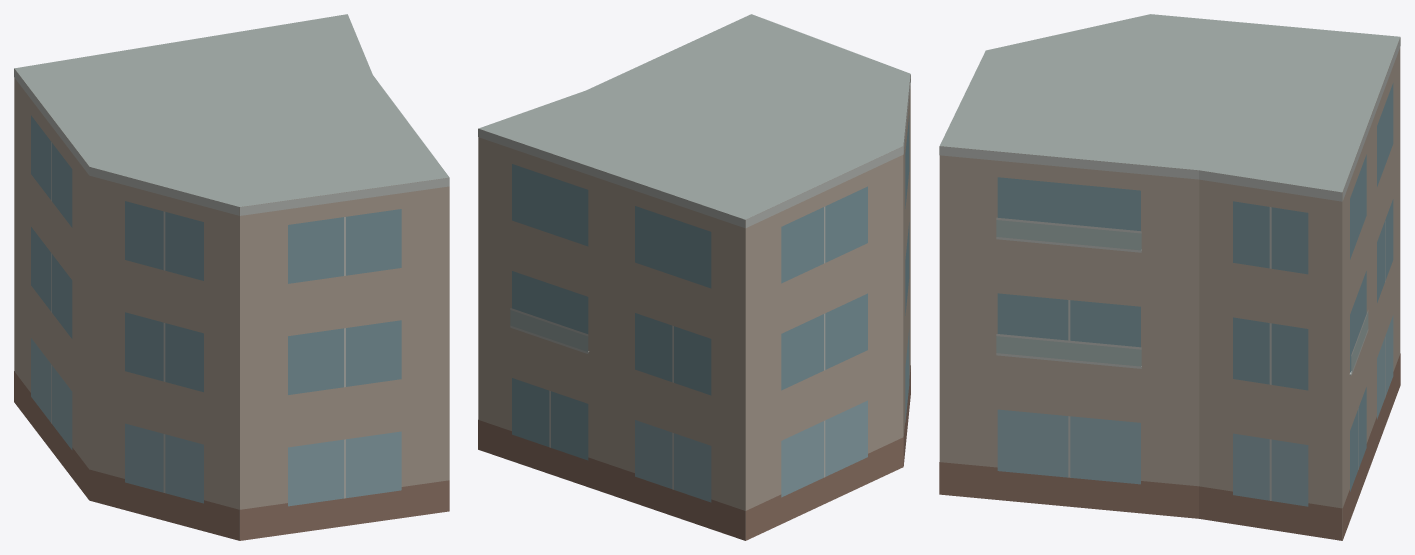
Rendered from survey-upis-33037868.glb.
The picture shows the model from 3 angles, left to right: view 1: azimuth 30°, elevation 25°; view 2: azimuth 150°, elevation 25°; view 3: azimuth 270°, elevation 25°; orthographic projection. The views are drawn at different scales.
Visible parts, largest first — view 1: survey-upis-33037868.tmp; view 2: survey-upis-33037868.tmp; view 3: survey-upis-33037868.tmp.
Boxes of the visible parts, left/top/right/bottom form: survey-upis-33037868.tmp: left=14, top=14, right=449, bottom=540; survey-upis-33037868.tmp: left=478, top=14, right=910, bottom=540; survey-upis-33037868.tmp: left=939, top=14, right=1400, bottom=540.
Bounding box in the file's own units: 10.06 × 9.15 × 10.98.
